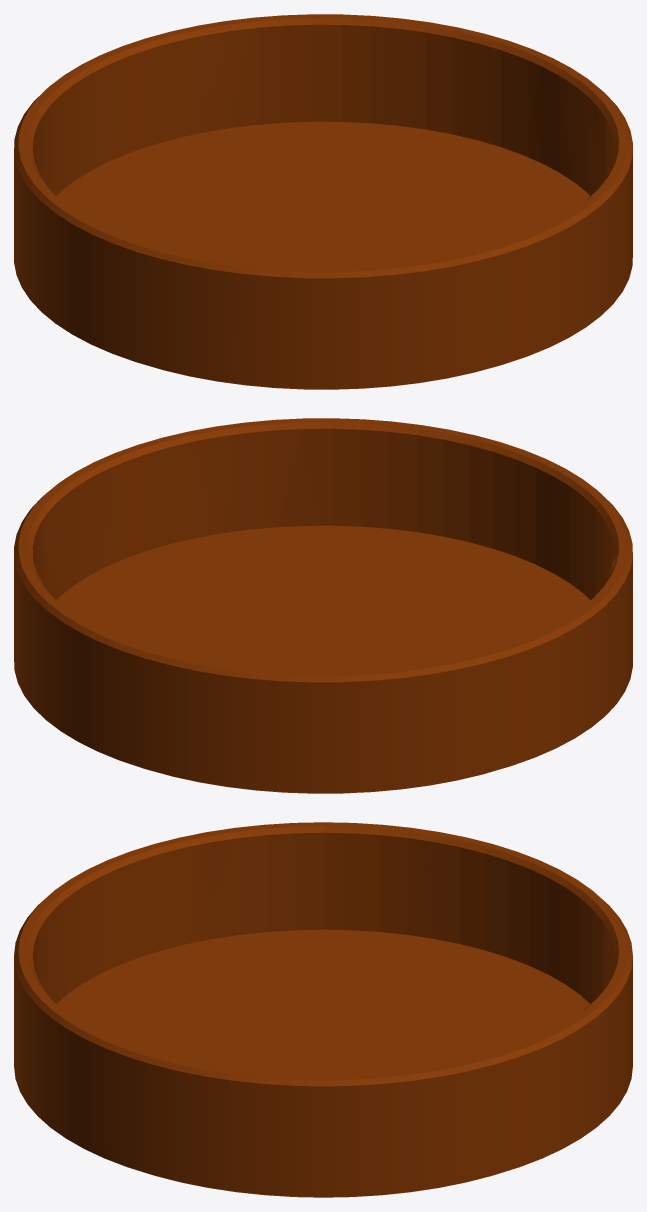
File: round_bowl.glb
The picture shows the model from 3 angles, top to bottom: view 1: azimuth 30°, elevation 25°; view 2: azimuth 150°, elevation 25°; view 3: azimuth 270°, elevation 25°; orthographic projection.
Parts seen in each view (by area): view 1: bowl; view 2: bowl; view 3: bowl.
Part boxes in pixels (x1,y1,x2,y2): bowl: (14, 14, 632, 389); bowl: (14, 418, 632, 793); bowl: (14, 822, 632, 1197).
Bounding box in the file's own units: 3.3 × 0.7036 × 3.3.
